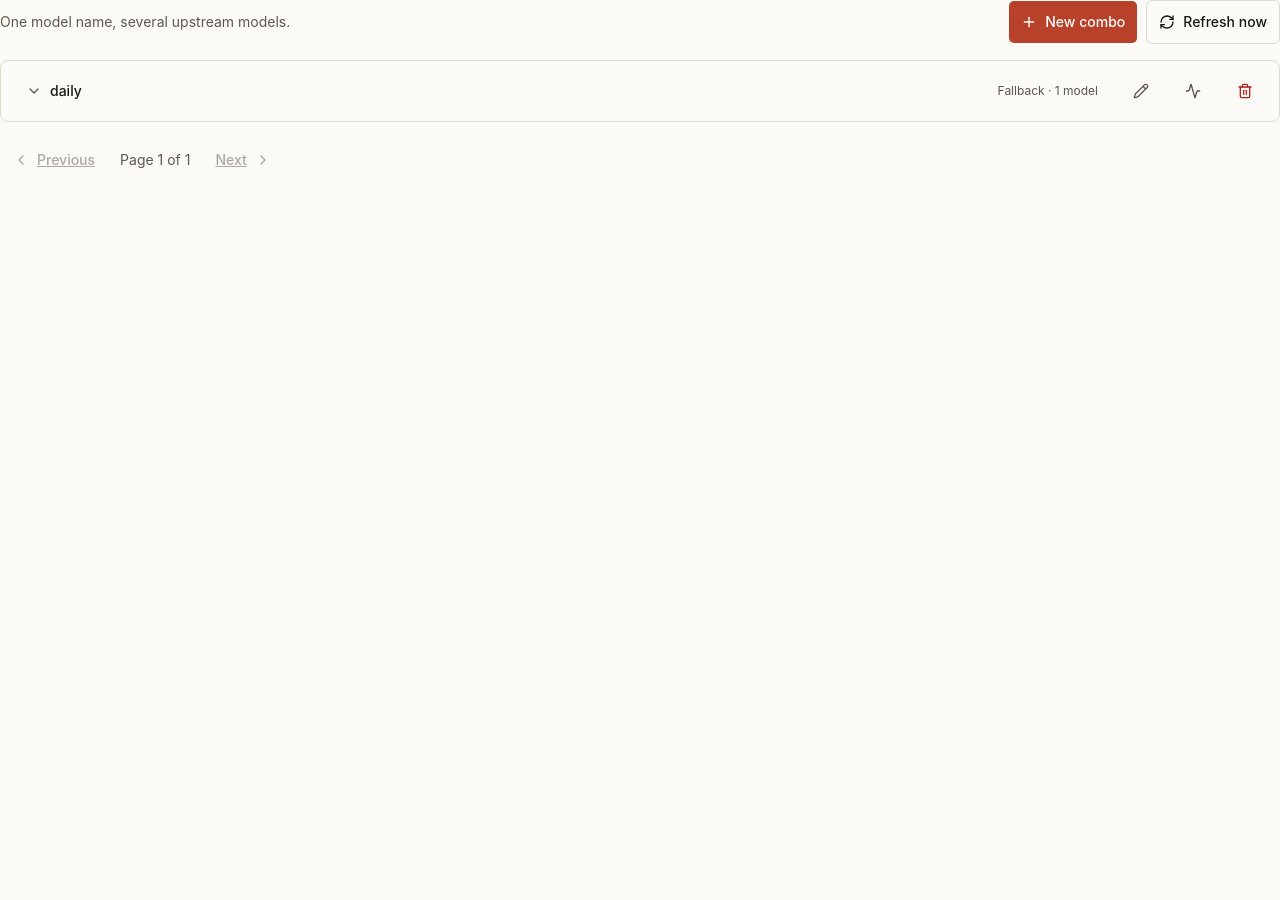
deleting a combo › does not claim the combo is referenced when the failure was something else
Click the button named "Delete" at (1245, 91), box [1223, 69, 1267, 113]
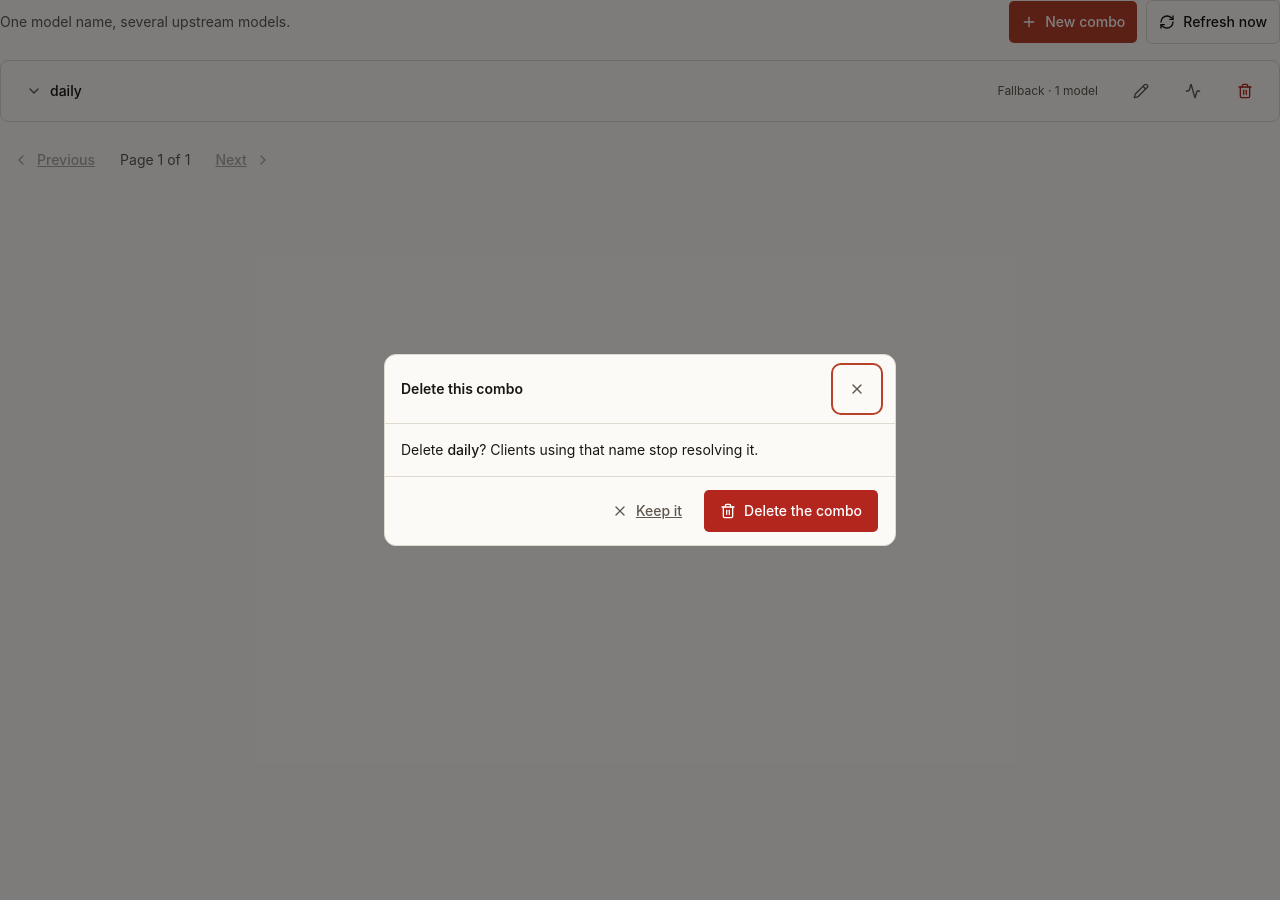
Click the button "Delete the combo" at (791, 511), box [703, 489, 879, 533]
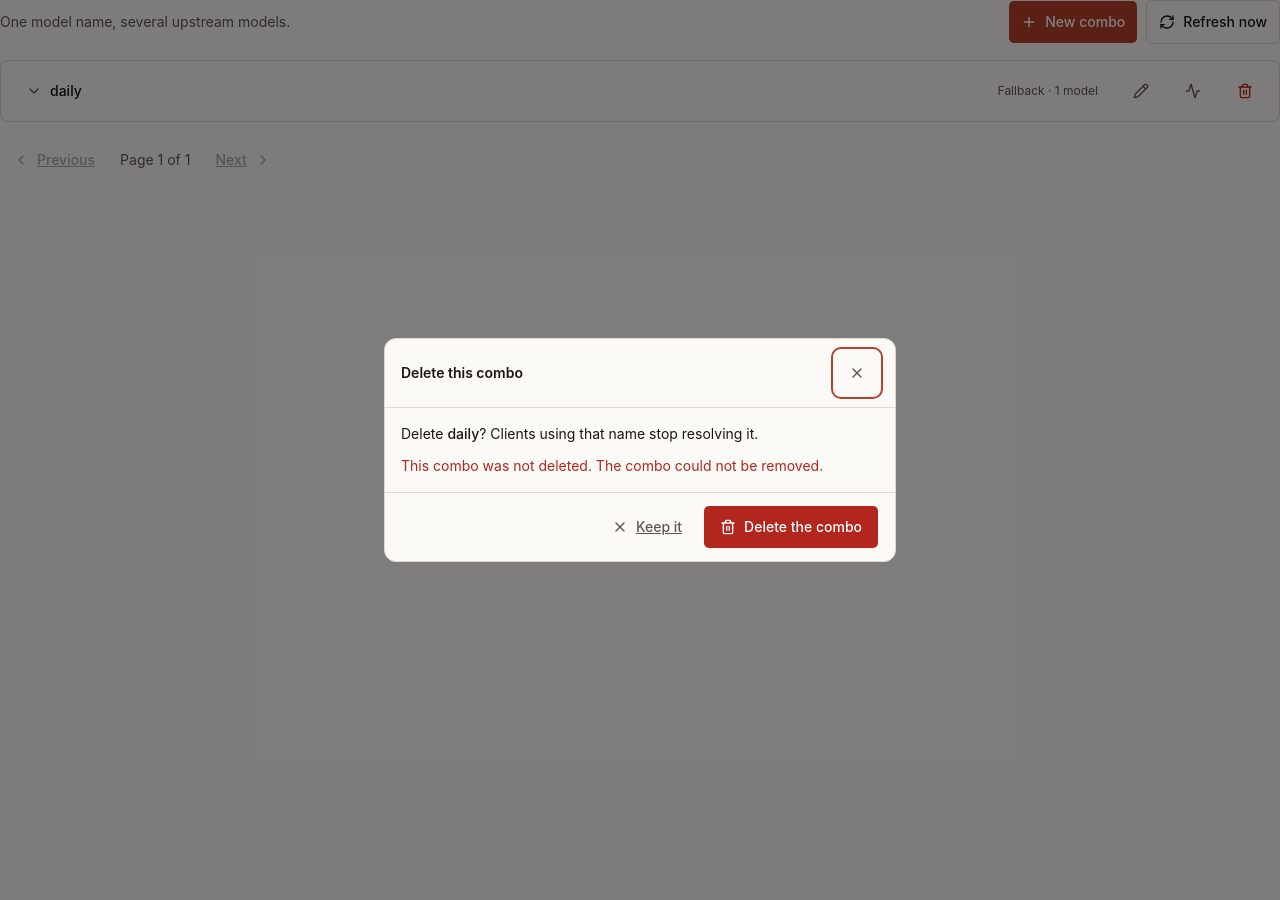
Expected: the text "This combo was not deleted. The combo could not be removed." is shown, [401, 457, 823, 474]
